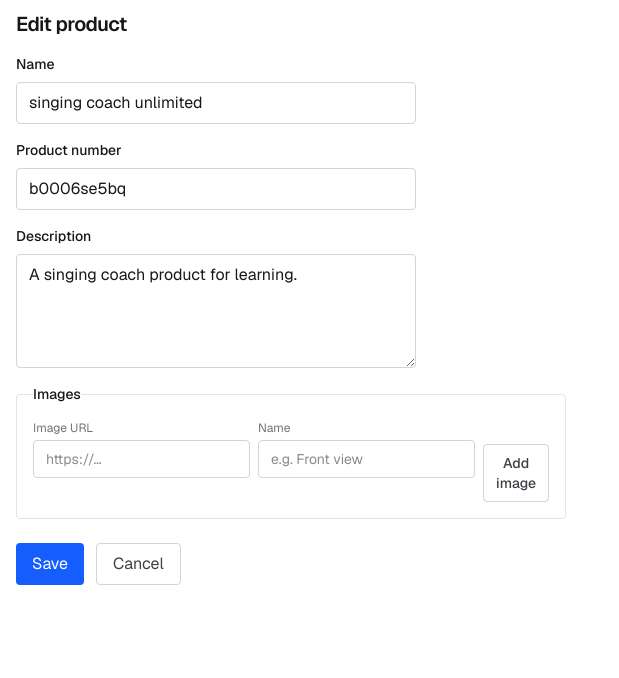
it: Product edit page ([name]/edit/page.tsx) › Add image adds row when URL and name are valid
The image size is (619, 678).
Type "https://example.com/new.jpg" into the field with placeholder "https://…" at point(142, 459), box [33,440,250,478]
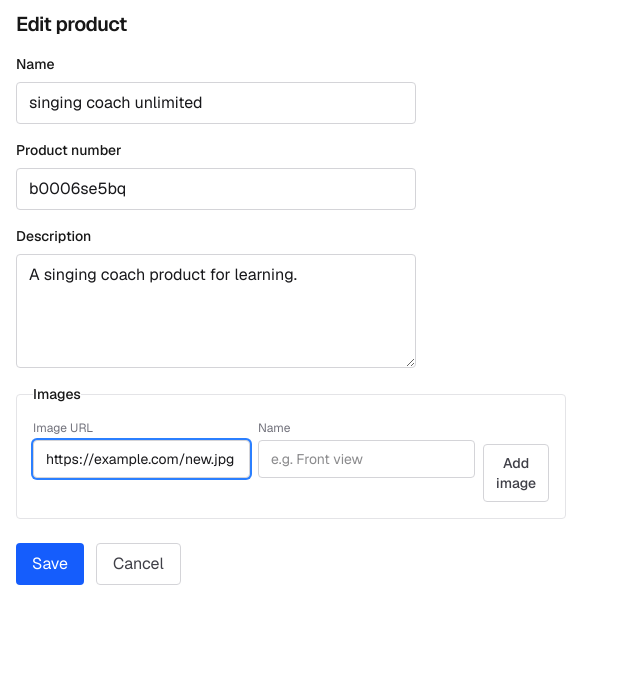
Type "New image" into the field with placeholder "e.g. Front view" below "Image URL" at point(366, 459), box [258,440,475,478]
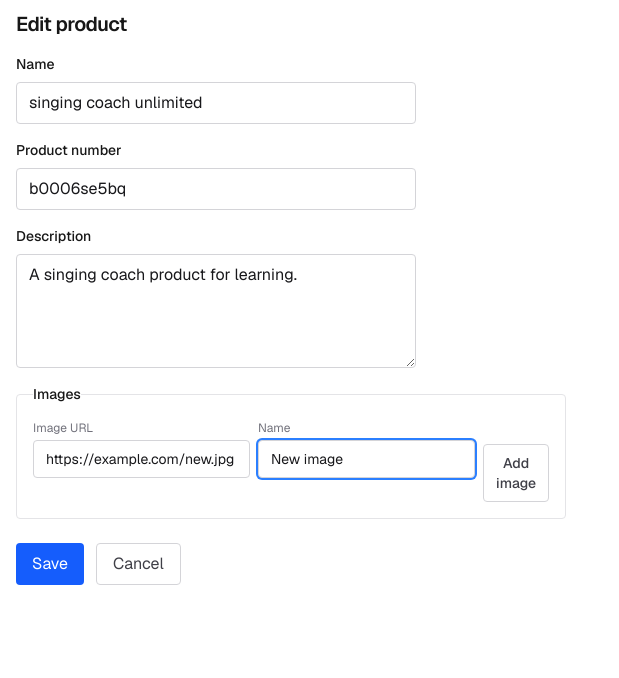
Click the button "Add image" at point(516, 473), box [483,444,549,502]
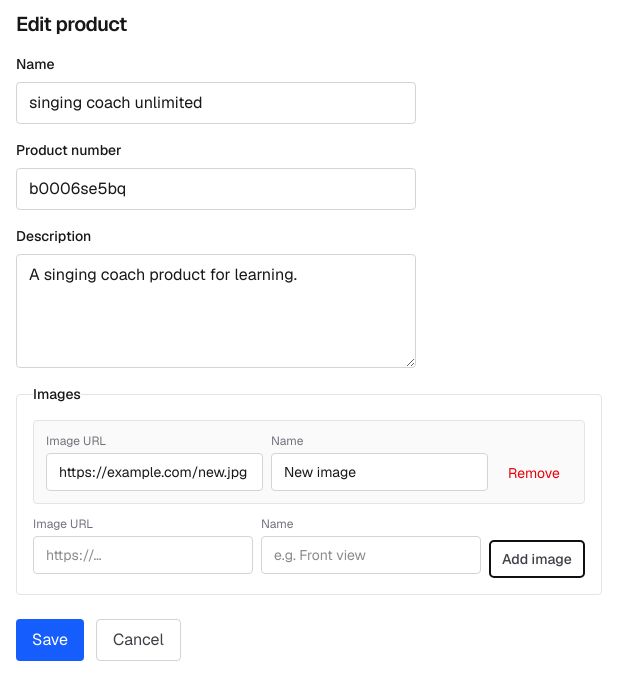
Expected: the 1st field showing "https://example.com/new.jpg" is shown, [46,453,263,491]
Expected: the 2nd field showing "New image" is shown, [271,453,488,491]
